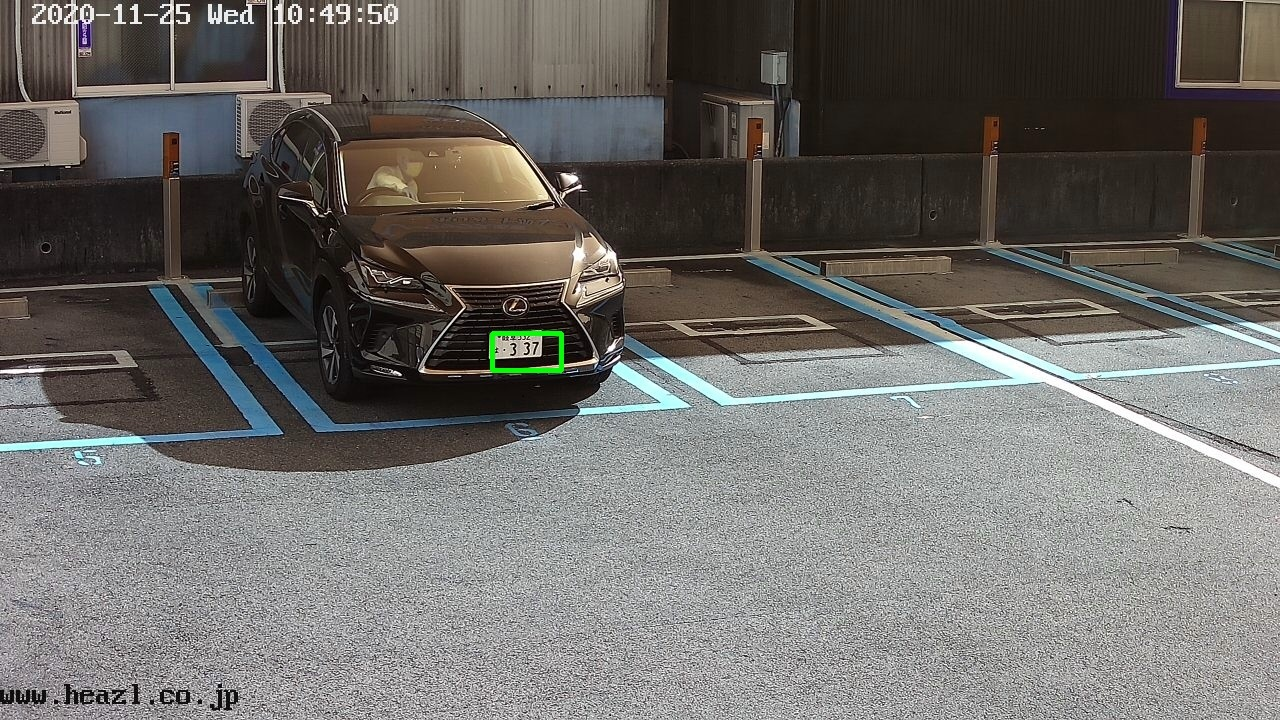number_plate: (487, 329, 545, 360)
